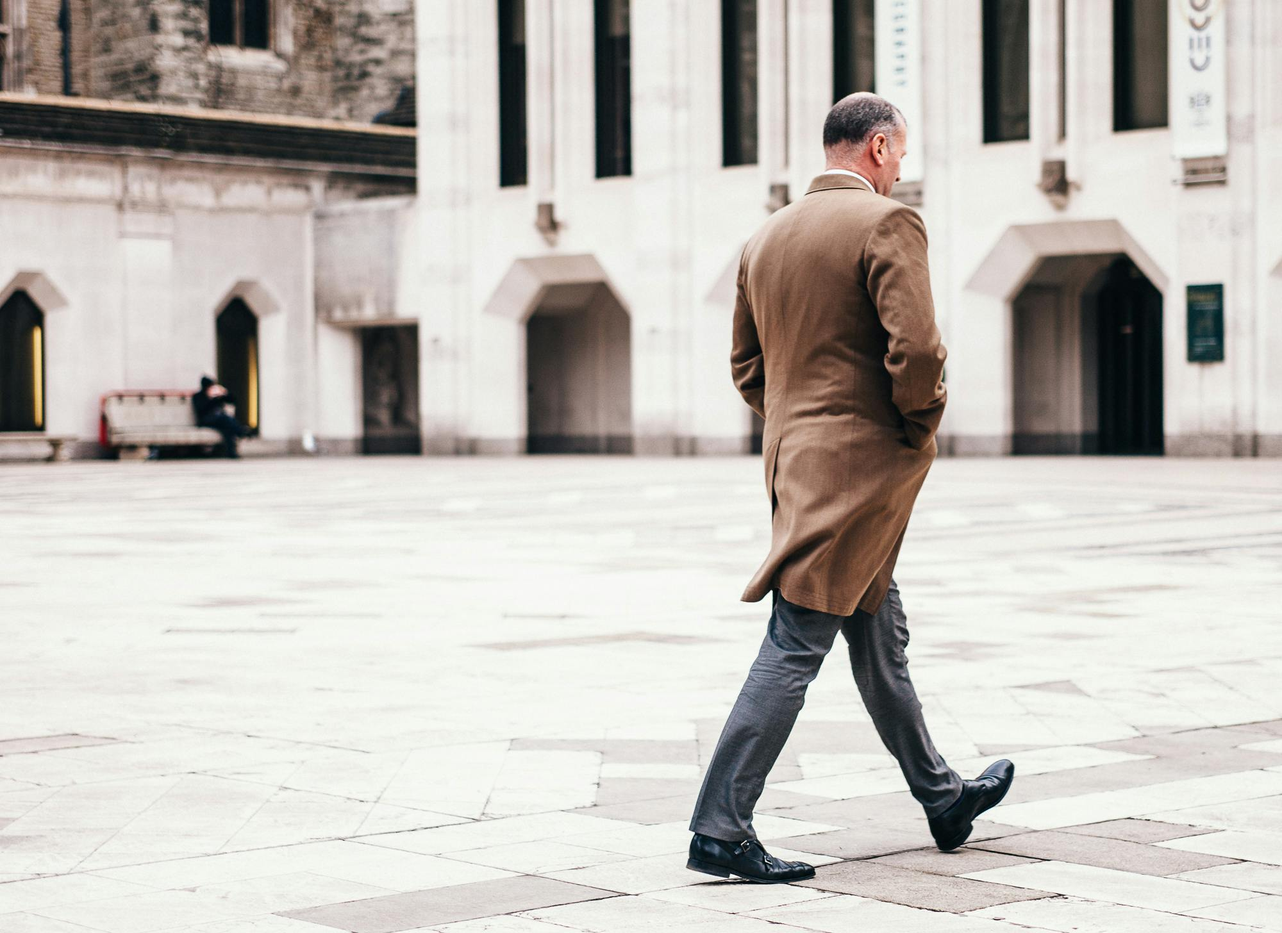Person: (679, 73, 1040, 895)
